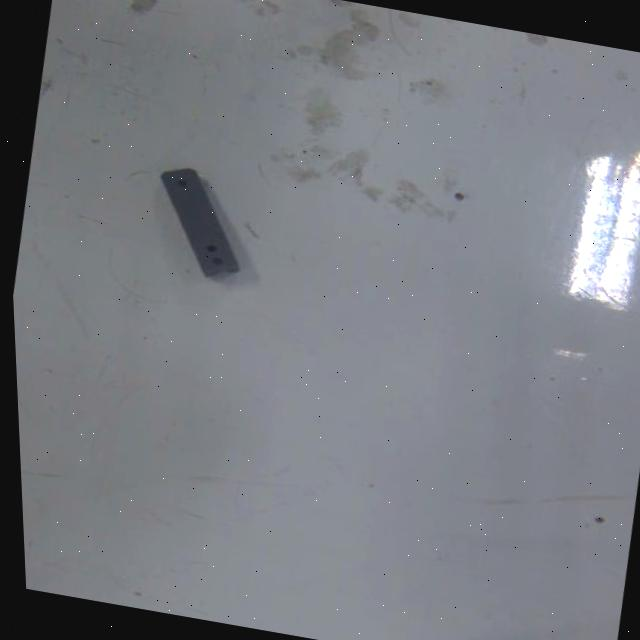grey: (140, 160, 259, 284)
head: (174, 176, 189, 188)
